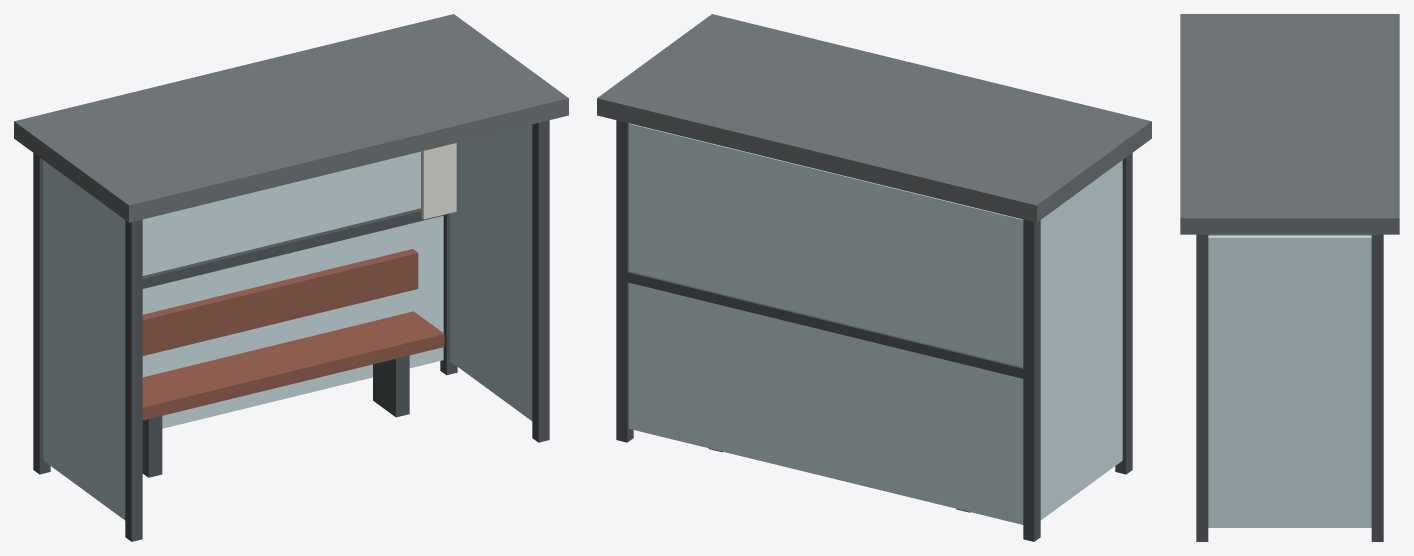
The model's file is oap_bus_shelter.glb.
3 views of the same model, side by side, from view 1: azimuth 30°, elevation 25°; view 2: azimuth 150°, elevation 25°; view 3: azimuth 270°, elevation 25° (orthographic). The views are drawn at different scales.
Visible parts, largest first — view 1: roof, back-glass, left-glass, right-glass, bench, backrest, front-left, front-right, rear-rail, rear-left, sign-panel, bench-leg-right (+2 smaller); view 2: back-glass, roof, left-glass, rear-left, rear-rail, rear-right, front-left; view 3: roof, right-glass, rear-right, front-right, left-glass.
Part boxes in pixels (x1,y1,x2,y2): roof: [14, 14, 568, 222]; back-glass: [142, 151, 443, 428]; left-glass: [43, 160, 125, 520]; right-glass: [450, 124, 532, 420]; bench: [142, 311, 444, 420]; backrest: [142, 249, 418, 355]; front-left: [125, 219, 142, 541]; front-right: [532, 120, 549, 442]; rear-rail: [142, 208, 446, 288]; rear-left: [33, 153, 50, 474]; sign-panel: [421, 143, 456, 219]; bench-leg-right: [373, 355, 409, 417]; back-glass: [628, 123, 1023, 524]; roof: [597, 14, 1151, 222]; left-glass: [1040, 160, 1122, 520]; rear-left: [1023, 219, 1040, 541]; rear-rail: [627, 271, 1023, 378]; rear-right: [616, 120, 633, 442]; front-left: [1115, 153, 1132, 474]; roof: [1180, 14, 1399, 234]; right-glass: [1208, 236, 1371, 527]; rear-right: [1371, 234, 1383, 541]; front-right: [1196, 234, 1208, 541]; left-glass: [1208, 234, 1371, 235].
Size of the model in its own units: 3.2 by 2.4 by 1.45.
